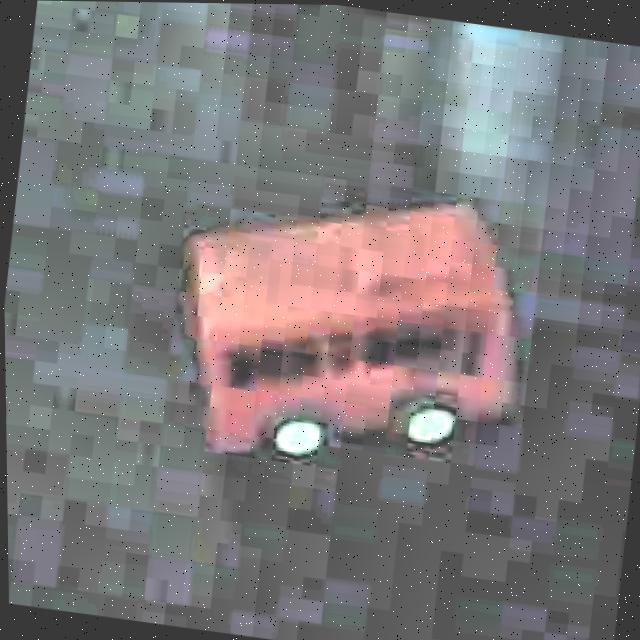bus: (152, 150, 549, 513)
